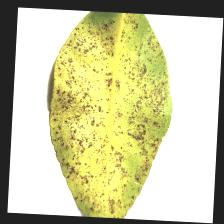canker: (60, 50, 160, 154)
